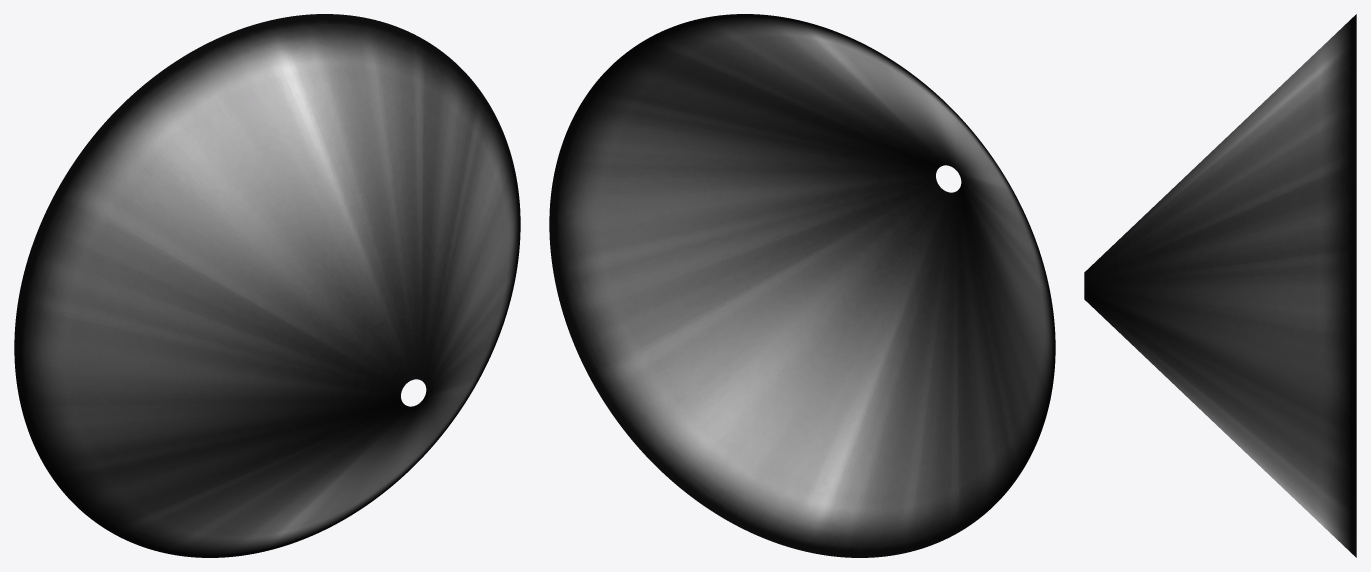
Rendered from Effect_FlashLightCone.fbx.
3 renders of one model, left to right at view 1: azimuth 30°, elevation 25°; view 2: azimuth 150°, elevation 25°; view 3: azimuth 270°, elevation 25°, orthographic. The views are drawn at different scales.
Parts seen in each view (by area): view 1: SM_FlashlightCone_SplineMesh_04.mo.001; view 2: SM_FlashlightCone_SplineMesh_04.mo.001; view 3: SM_FlashlightCone_SplineMesh_04.mo.001.
Part boxes in pixels (x1,y1,x2,y2): SM_FlashlightCone_SplineMesh_04.mo.001: [14, 14, 520, 557]; SM_FlashlightCone_SplineMesh_04.mo.001: [549, 14, 1055, 557]; SM_FlashlightCone_SplineMesh_04.mo.001: [1084, 14, 1356, 557].
Size of the model in its own units: 200 by 200 by 100.
